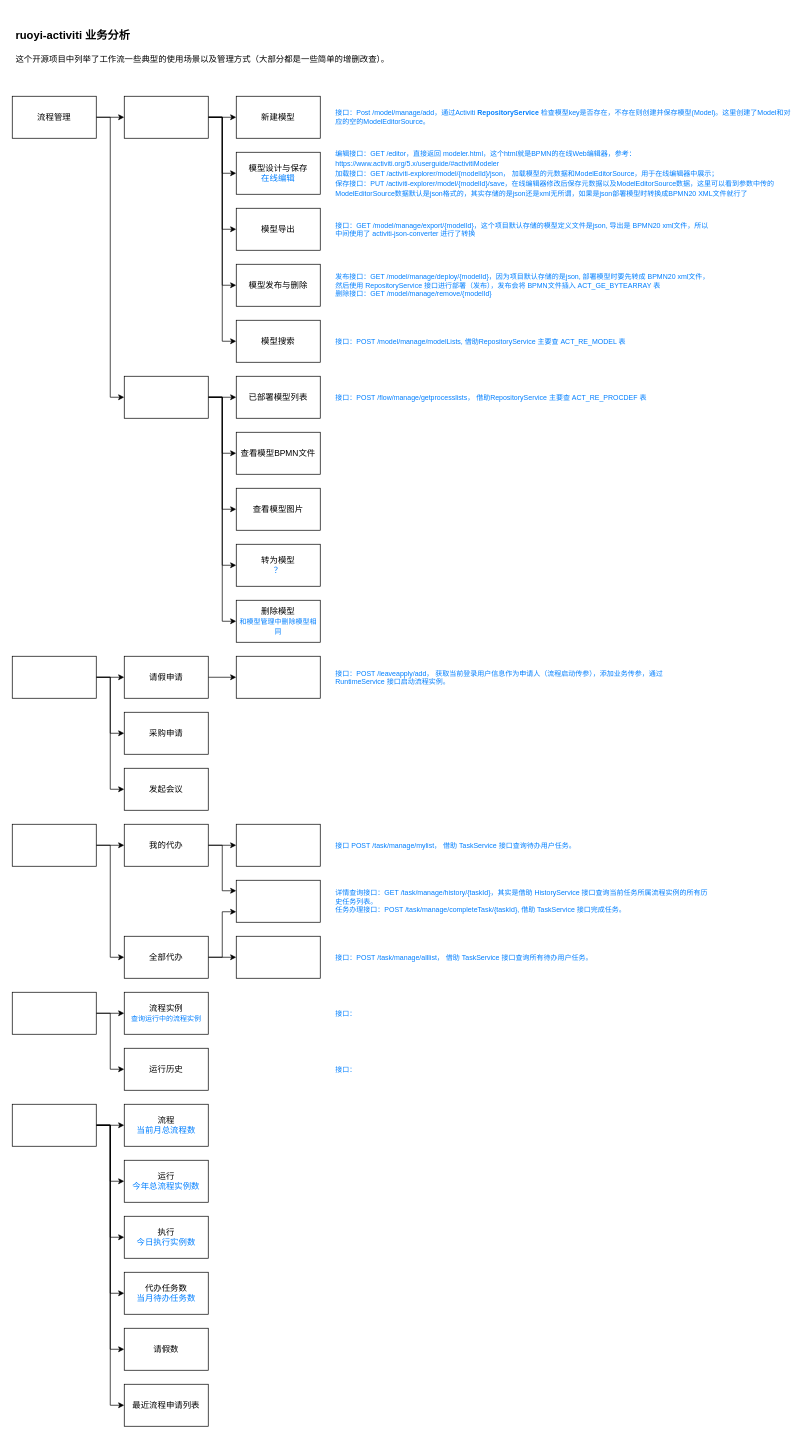
Some shapes in this 809 by 1439 pixel diagram are drawn without their labels. Here are the shapes that lost their labels. From the top down, the centre of each, then its label:
At (166,117): "模型管理 支持在线编辑、发布、导出、删除BPMN文件".
At (166,397): "部署管理 即管理已经发布的流程模型".
At (54,677): "功能表 即用于启动已经部署的流程，默认部署了3个流程".
At (278,677): "启动一个请假申请流程实例".
At (54,845): "代办任务 即流程实例中需要处理的用户任务列表".
At (278,845): "查询我的代办任务".
At (278,901): "任务详情查询&办理".
At (278,957): "查询所有代办任务".
At (54,1013): "流程监控".
At (54,1125): "首页 是个报表页".
